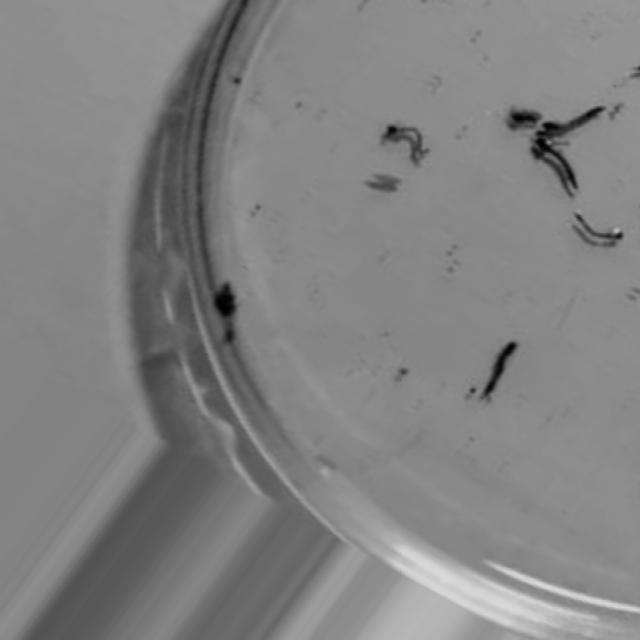larvas: (536, 136, 578, 188), (486, 338, 513, 400), (546, 106, 604, 134), (388, 125, 429, 161), (578, 212, 622, 244)
